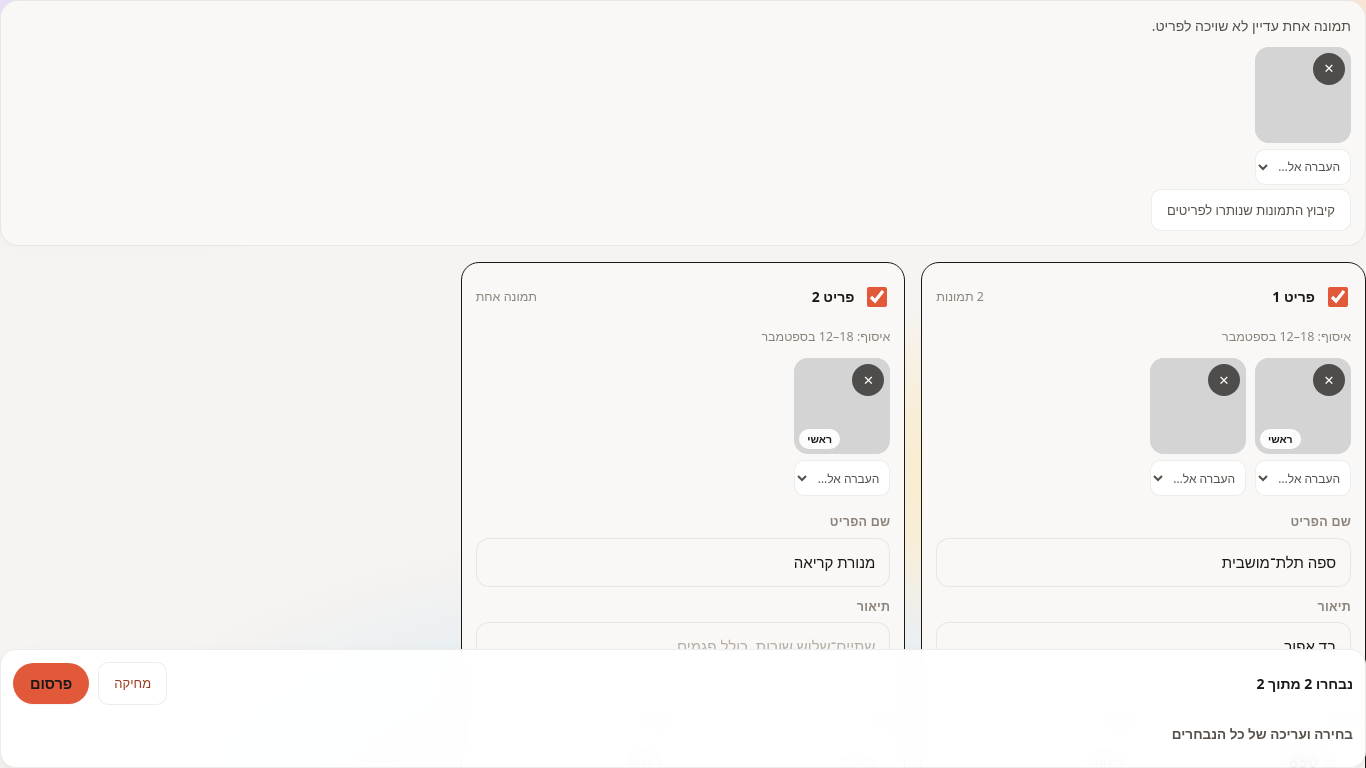
Test case: the import review screen › offers to group photos that never got an item
This screenshot has width=1366, height=768.
Click the button "קיבוץ התמונות שנותרו לפריטים": (1251, 210) [1151,189,1351,231]
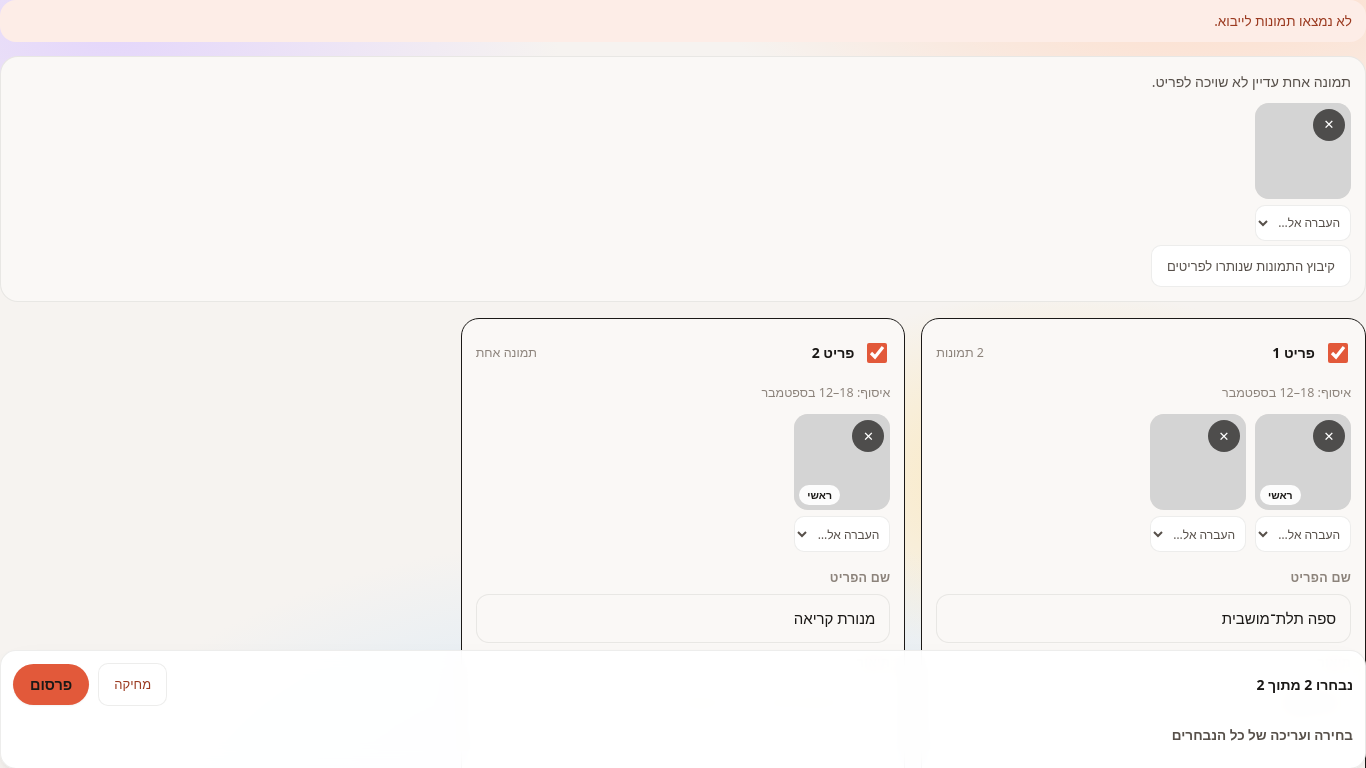
expect the text "לא נמצאו תמונות לייבוא." is shown: met, box [1214,12,1352,30]
